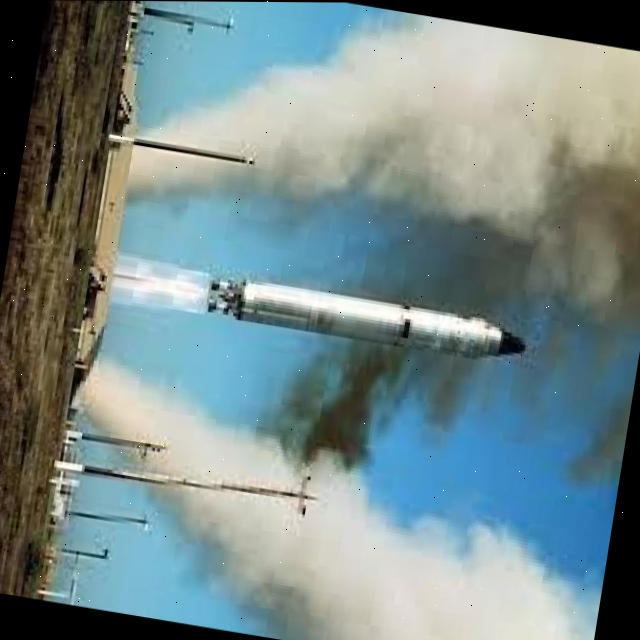missile: (199, 269, 533, 372)
